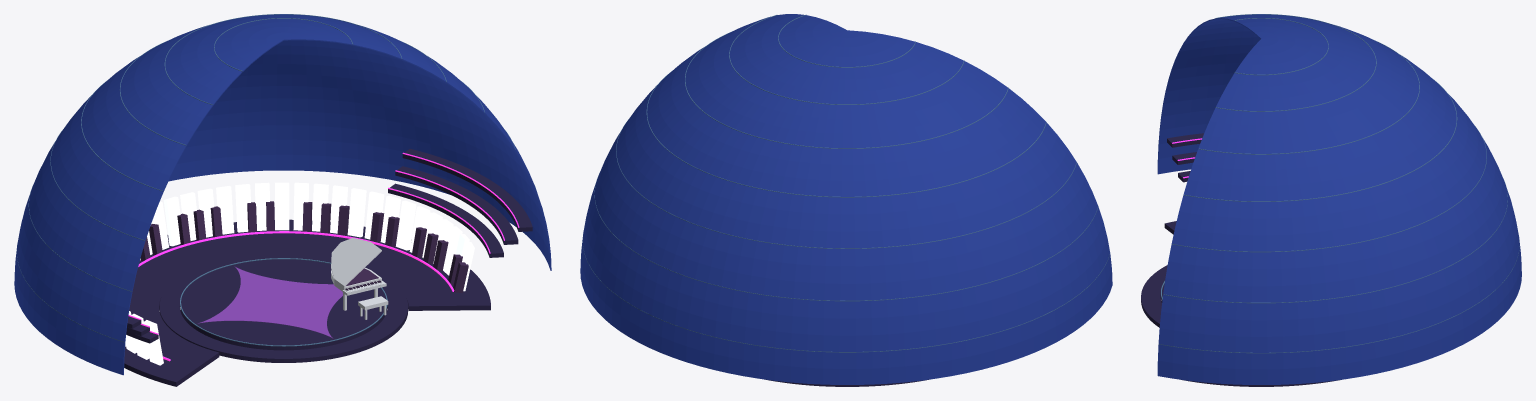
The model's file is keyring-material.glb.
3 renders of one model, left to right at view 1: azimuth 30°, elevation 25°; view 2: azimuth 150°, elevation 25°; view 3: azimuth 270°, elevation 25°, orthographic. The views are drawn at different scales.
Parts seen in each view (by area): view 1: finite-media-surface-unresolved, stage-outer-floor, stage-central-solid, stage-step-ring, four-point-concave-floor-inlay, upper-terrace-1-2, upper-terrace-1-1, upper-terrace-1-0, piano-open-lid, key-pink-ring, white-key-27, inner-luminous-rim (+14 smaller); view 2: finite-media-surface-unresolved, media-grid-lat-05, media-grid-lat-08, media-grid-lat-11, media-grid-lat-02, media-grid-lat-14; view 3: finite-media-surface-unresolved, stage-step-ring, media-grid-lat-05, media-grid-lat-08, media-grid-lat-02, media-grid-lat-11, media-grid-lat-17, stage-outer-floor, media-grid-lat-14, upper-terrace--1-2.
Part boxes in pixels (left/top/right/bottom): finite-media-surface-unresolved: left=14, top=14, right=551, bottom=375; stage-outer-floor: left=124, top=219, right=490, bottom=386; stage-central-solid: left=180, top=259, right=387, bottom=350; stage-step-ring: left=159, top=254, right=408, bottom=362; four-point-concave-floor-inlay: left=198, top=266, right=342, bottom=338; upper-terrace-1-2: left=402, top=148, right=532, bottom=231; upper-terrace-1-1: left=395, top=166, right=518, bottom=244; upper-terrace-1-0: left=388, top=183, right=503, bottom=257; piano-open-lid: left=331, top=238, right=381, bottom=286; key-pink-ring: left=138, top=231, right=454, bottom=361; white-key-27: left=347, top=188, right=366, bottom=237; inner-luminous-rim: left=180, top=258, right=387, bottom=346; finite-media-surface-unresolved: left=580, top=14, right=1112, bottom=384; media-grid-lat-05: left=594, top=173, right=1098, bottom=301; media-grid-lat-08: left=616, top=119, right=1076, bottom=248; media-grid-lat-11: left=646, top=71, right=1046, bottom=197; media-grid-lat-02: left=582, top=234, right=1110, bottom=352; media-grid-lat-14: left=685, top=31, right=1008, bottom=148; finite-media-surface-unresolved: left=1157, top=14, right=1521, bottom=384; stage-step-ring: left=1141, top=265, right=1167, bottom=327; media-grid-lat-05: left=1163, top=180, right=1507, bottom=303; media-grid-lat-08: left=1172, top=126, right=1486, bottom=252; media-grid-lat-02: left=1159, top=240, right=1519, bottom=353; media-grid-lat-11: left=1183, top=79, right=1457, bottom=201; media-grid-lat-17: left=1215, top=14, right=1376, bottom=111; stage-outer-floor: left=1164, top=221, right=1341, bottom=386; media-grid-lat-14: left=1198, top=40, right=1419, bottom=154; upper-terrace--1-2: left=1167, top=133, right=1203, bottom=147.
Size of the model in its own units: 25.99 by 14.5 by 19.
